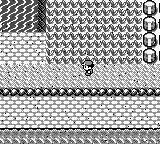captura: (46, 1, 142, 64), (1, 1, 38, 32)
main: (81, 61, 94, 75)
mo: (38, 1, 46, 32)
no-caminable: (0, 128, 160, 143), (144, 0, 159, 63)
salto: (1, 88, 159, 96)
